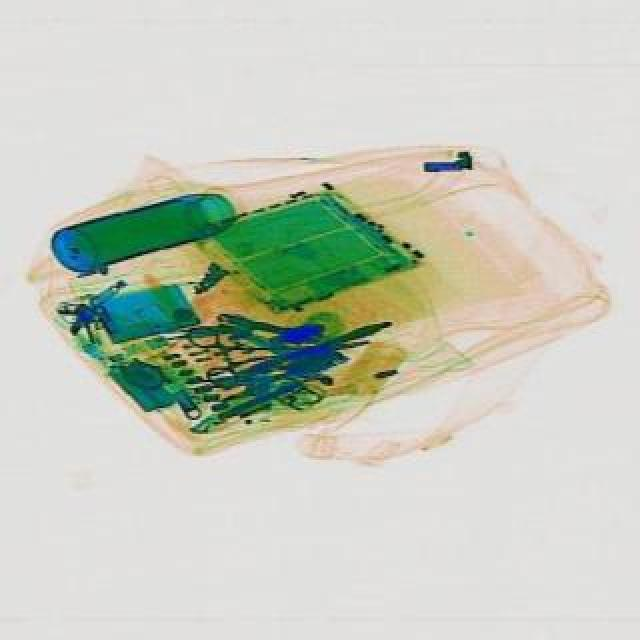pliers: (184, 308, 374, 392)
